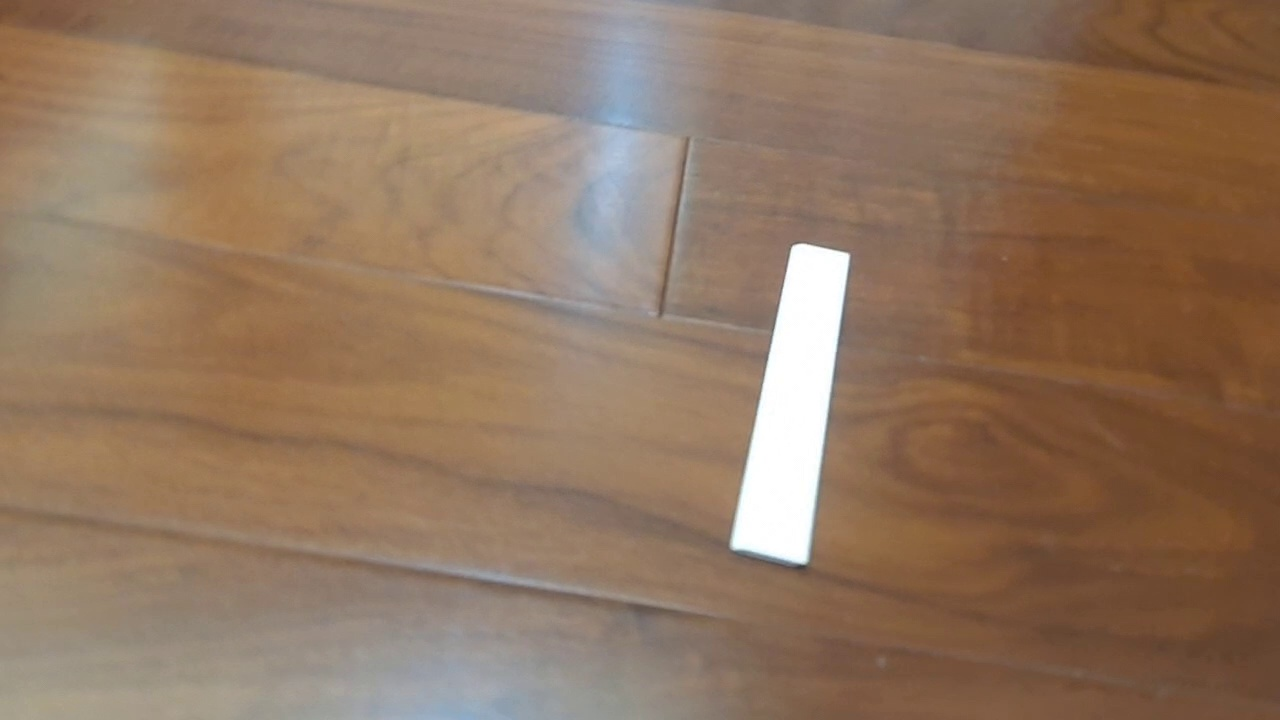ruler: (727, 240, 852, 571)
